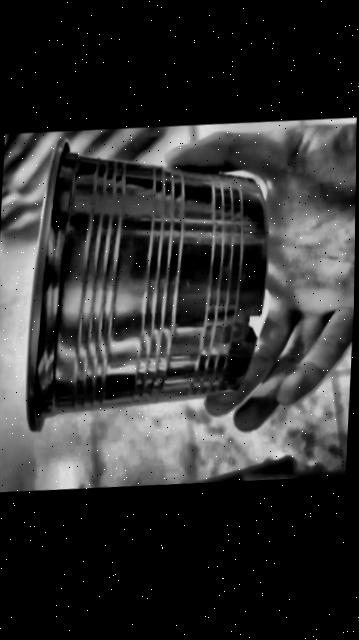pot: (26, 142, 266, 430)
